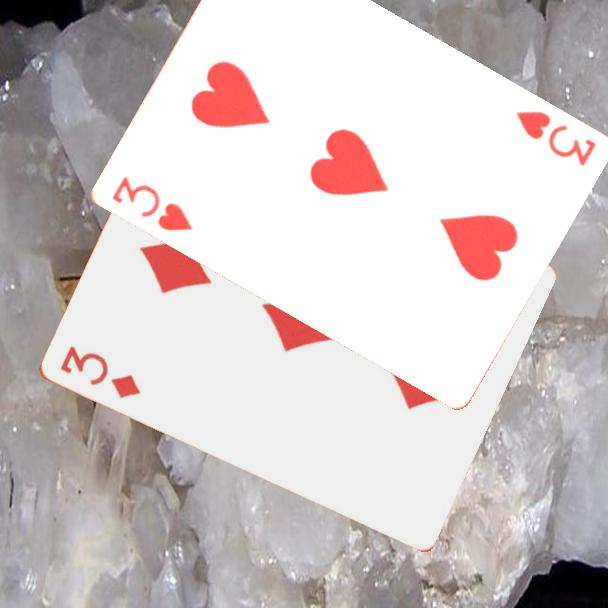d03: (56, 342, 143, 402)
h03: (108, 172, 195, 235), (511, 107, 598, 169)
